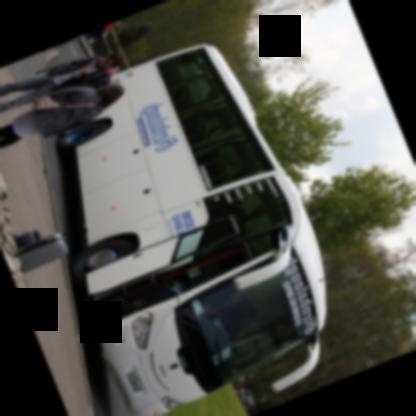backpack: (12, 229, 41, 248), (98, 74, 111, 87)
handbag: (31, 96, 96, 109)
suitcase: (13, 223, 88, 273)
